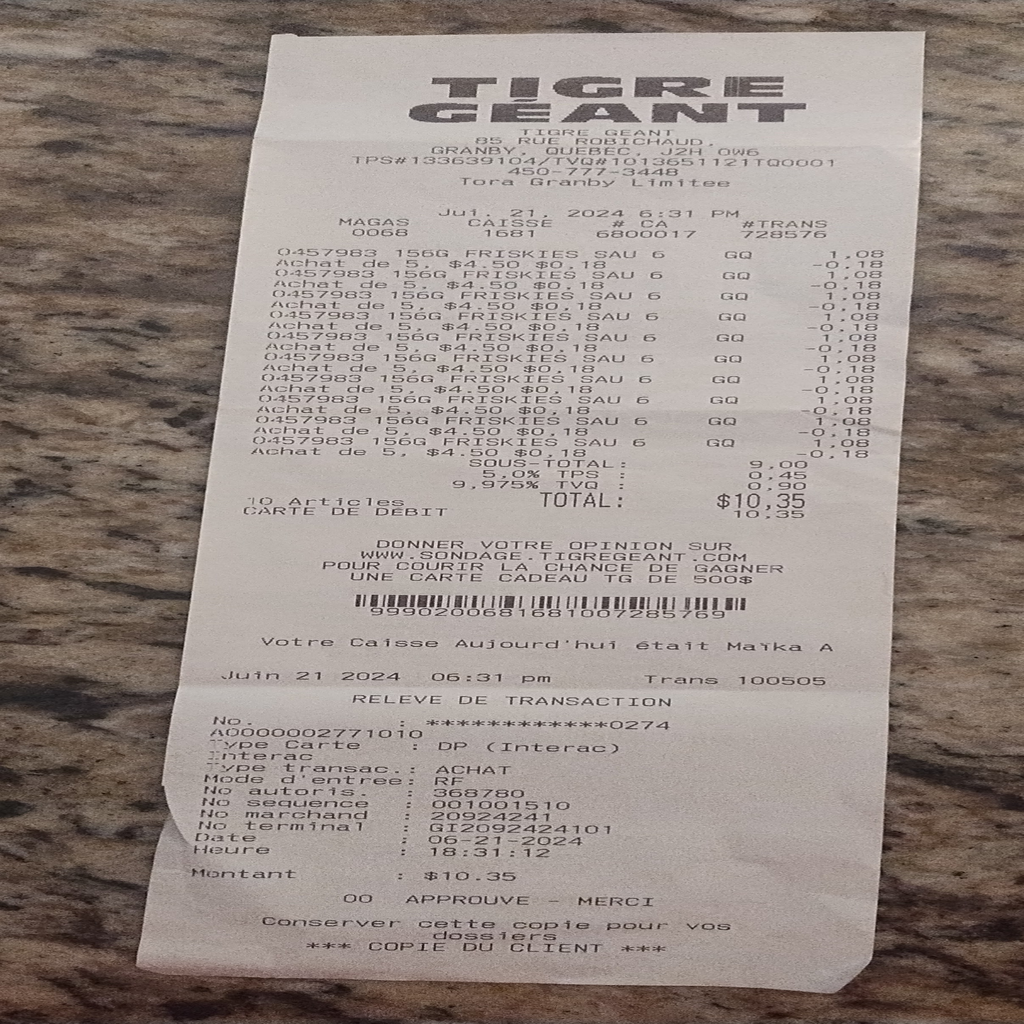recipt: (132, 31, 927, 992)
